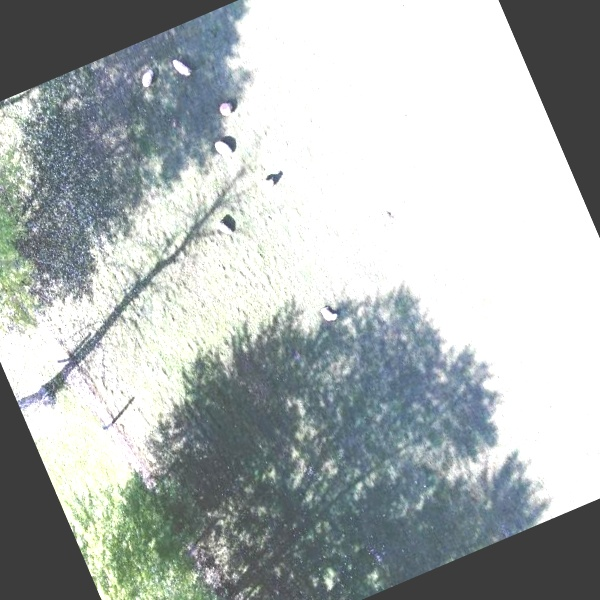sheep: (306, 283, 345, 335), (203, 200, 242, 252), (166, 44, 202, 91), (132, 56, 168, 102), (245, 159, 285, 200), (205, 130, 242, 172), (209, 88, 245, 130)
